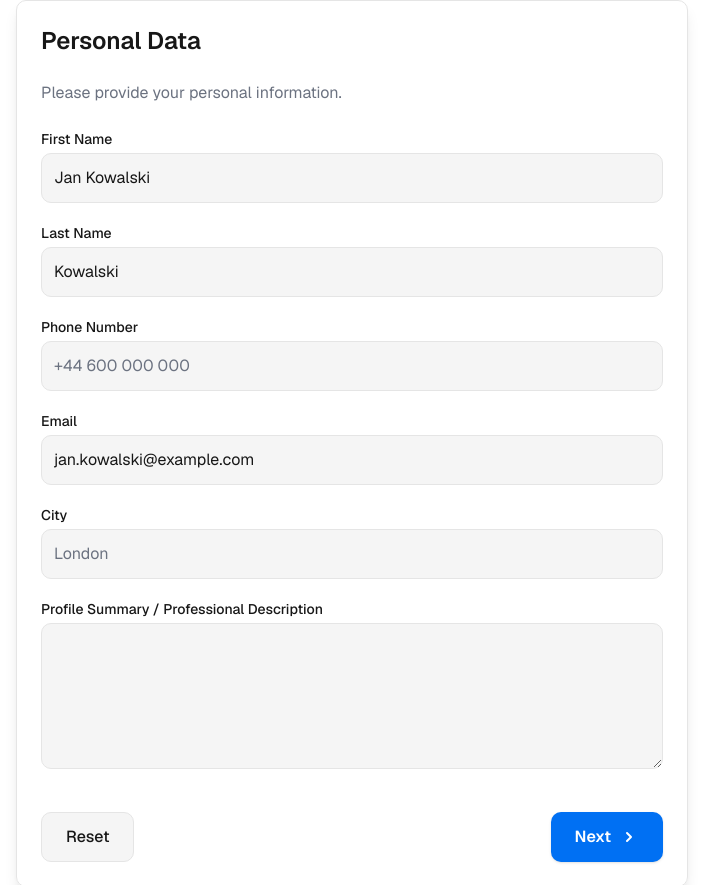
Test: UserForm Component › Walidacja formularza › powinien poprawnie zwalidować minimalną długość podsumowania profilu
The image size is (705, 885).
Type "Za krótki tekst" into the text box labelled "Profile Summary / Professional Description" at (352, 696), box [41,623,663,769]
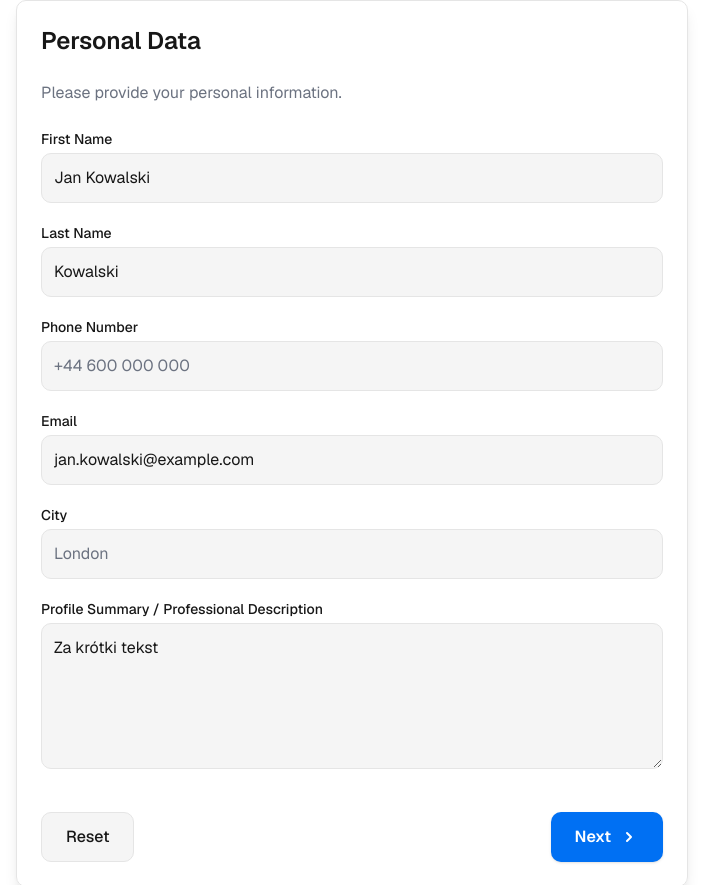
Click the button "Next" at (607, 837), box [551,812,663,862]
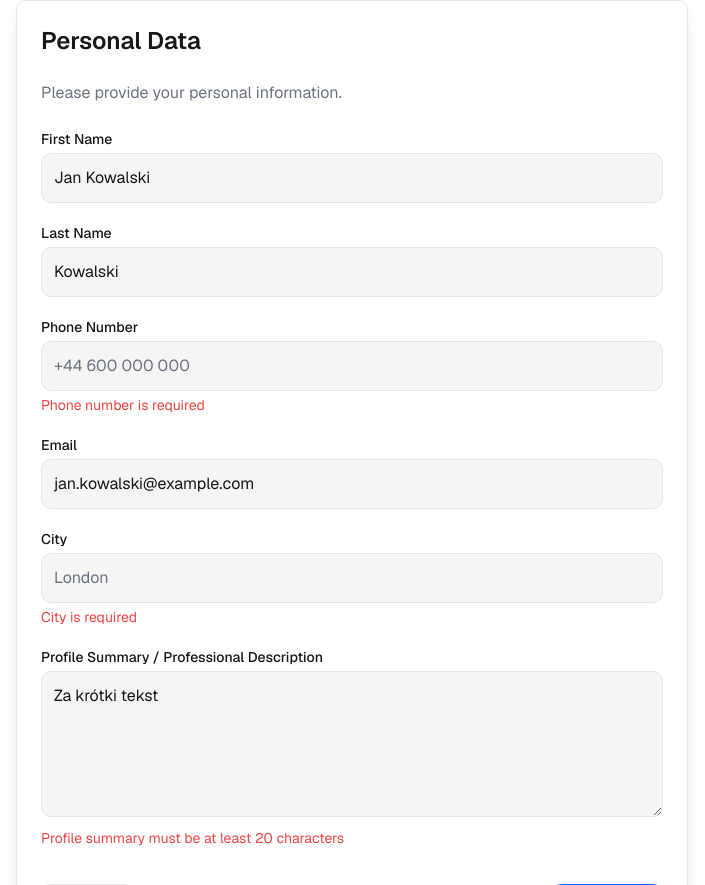
Result: the text "Profile summary must be at least 20 characters" is shown at [41,829,344,847]
